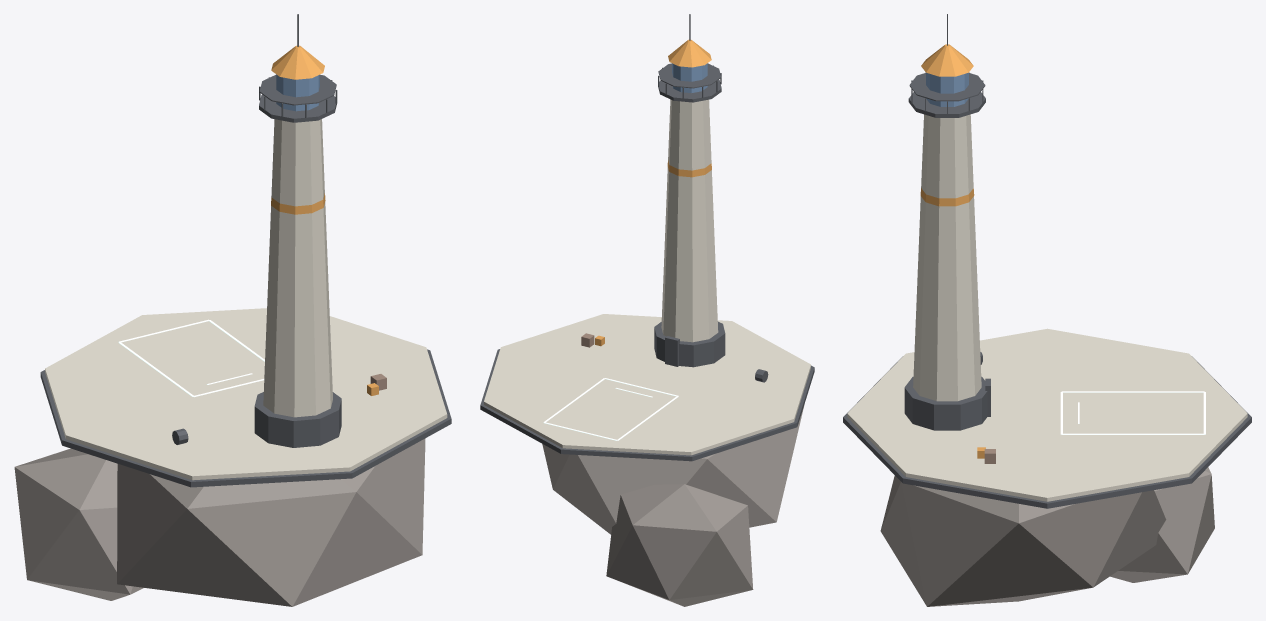
Rendered from Lighthouse.fbx.
The picture shows the model from 3 angles, left to right: view 1: azimuth 30°, elevation 25°; view 2: azimuth 150°, elevation 25°; view 3: azimuth 270°, elevation 25°; orthographic projection. The views are drawn at different scales.
Parts seen in each view (by area): view 1: Lighthouse, Marking; view 2: Lighthouse, Marking; view 3: Lighthouse, Marking.
Boxes of the visible parts, box(x1,y1,x2,y2) form: Lighthouse: box(14, 14, 451, 606); Marking: box(118, 319, 264, 397); Lighthouse: box(480, 14, 814, 606); Marking: box(543, 378, 678, 440); Lighthouse: box(843, 14, 1251, 606); Marking: box(1060, 391, 1205, 434).
Size of the model in its own units: 28.6 by 47.17 by 28.6.
